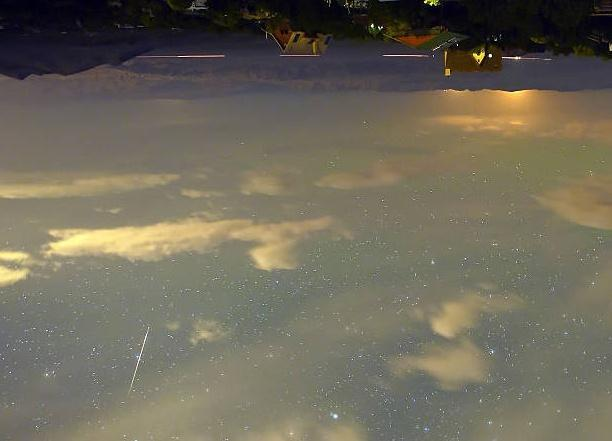meteorite: (123, 317, 160, 398)
